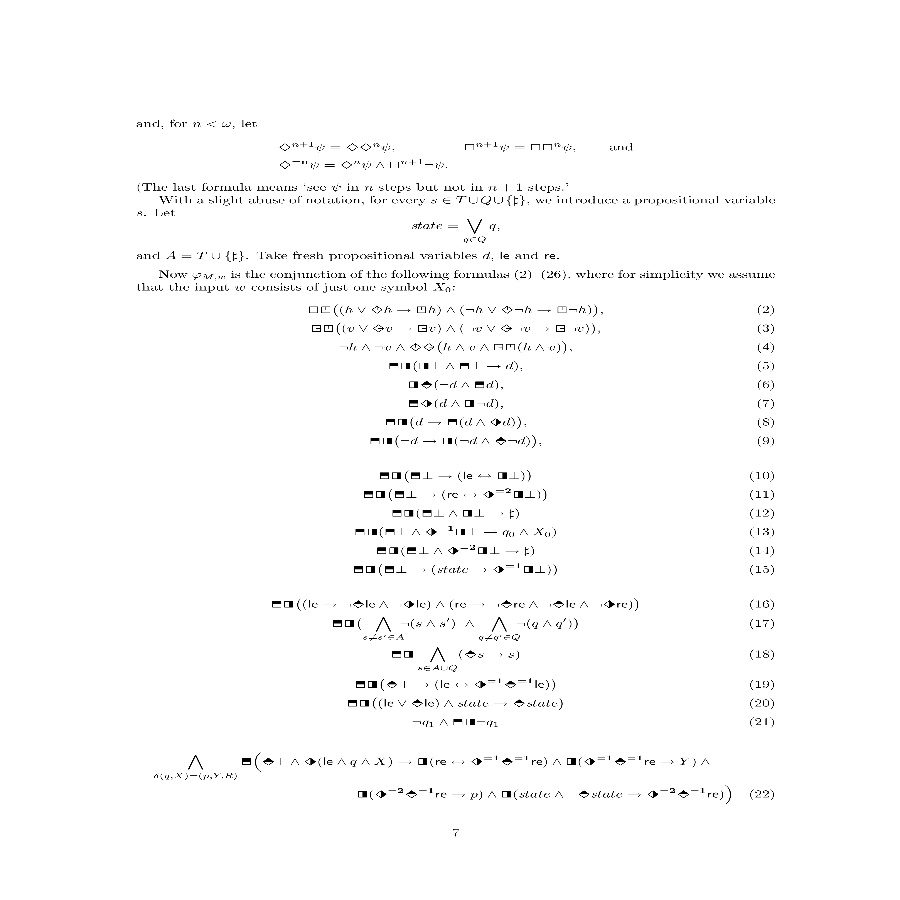eq: (407, 217, 506, 247)
